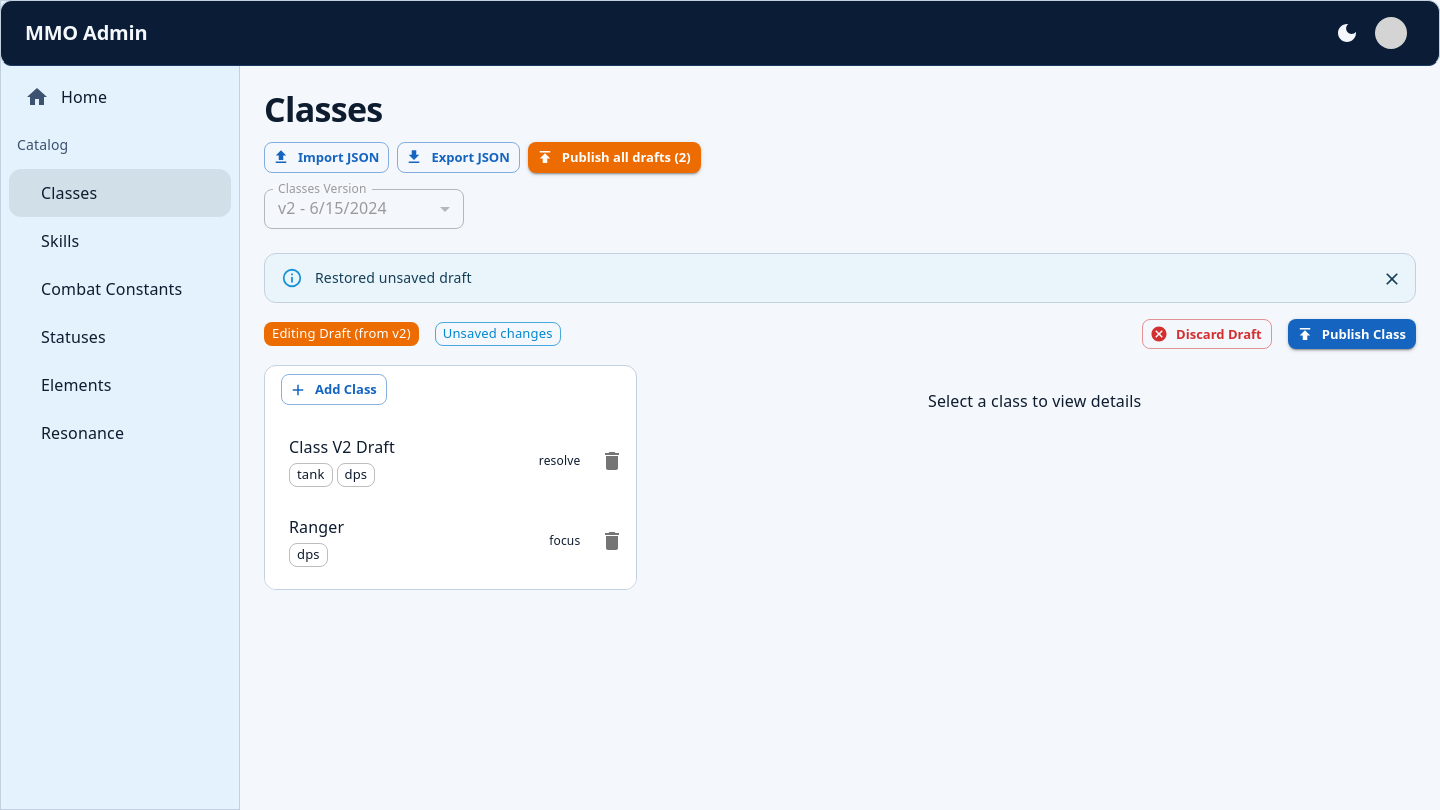
Test: Draft persistence (MMO-29) › keeps drafts keyed separately per catalog type and version
Check: the text "Class V2 Draft" is shown, box [289, 436, 395, 458]
Click the link "Skills".
click(60, 241)  # box [41, 230, 79, 252]
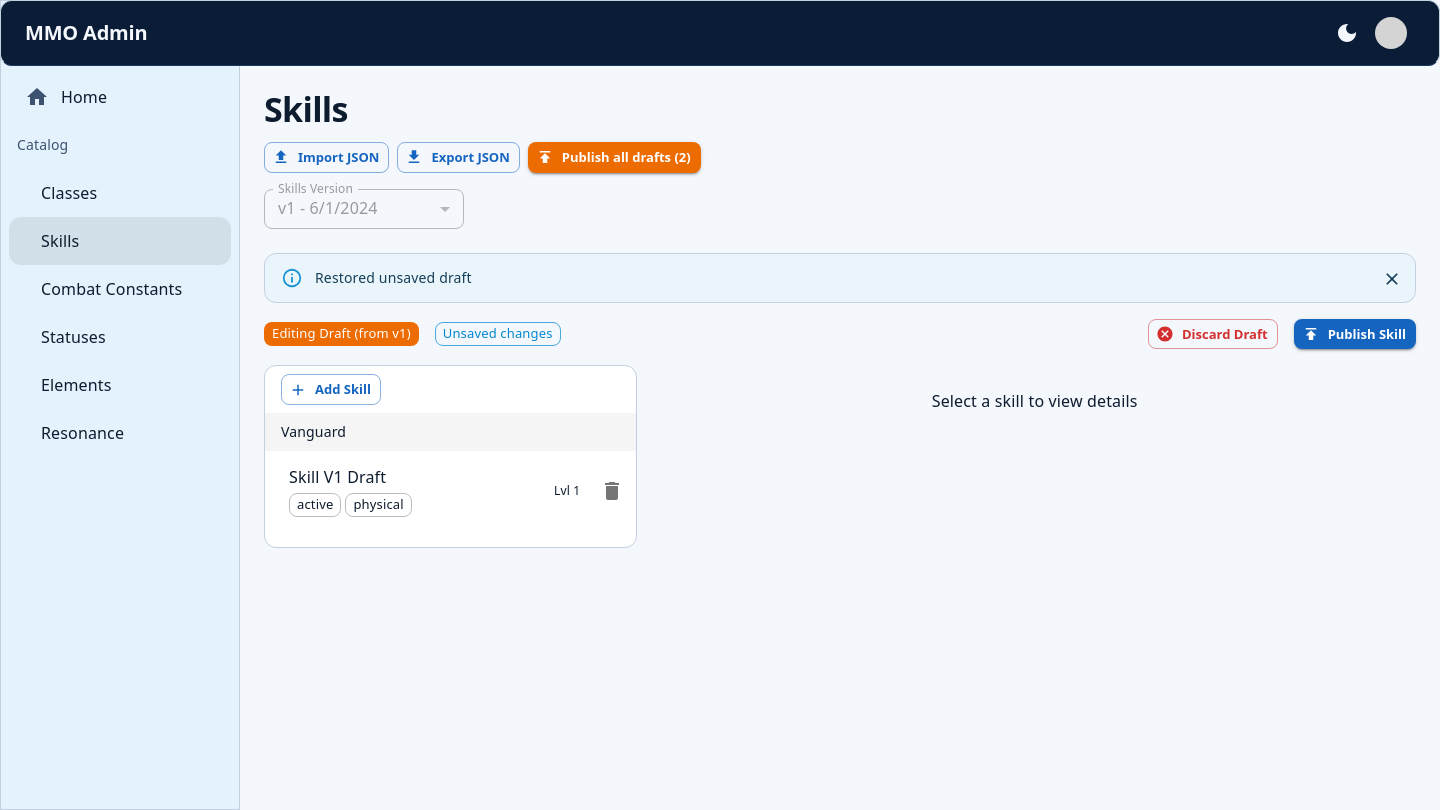
Check: the message "Restored unsaved draft" is shown, box [264, 253, 1416, 303]
Check: the text "Skill V1 Draft" is shown, box [289, 466, 386, 488]
